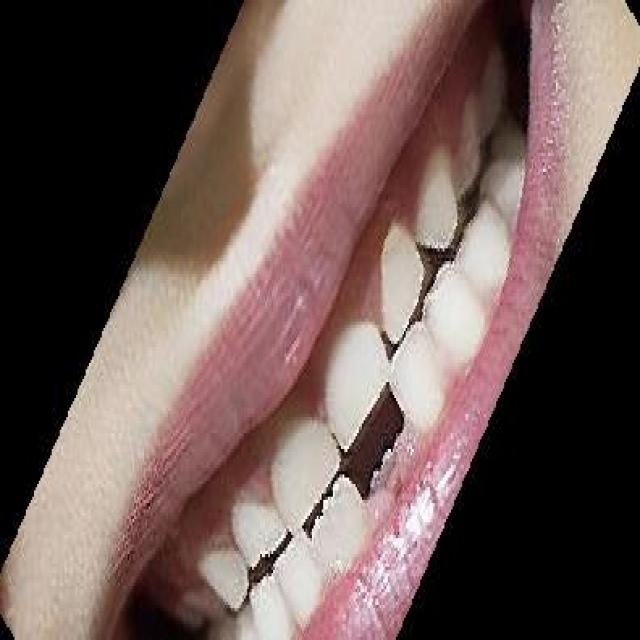caries: (369, 439, 402, 504)
